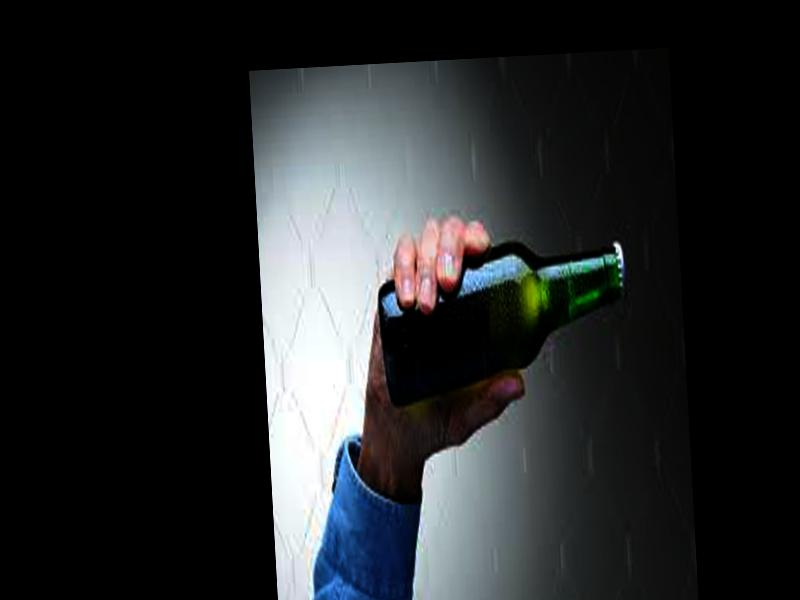Beer: (374, 237, 635, 410)
